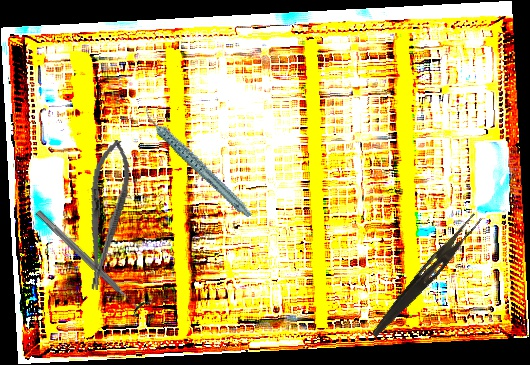Dressing Forceps: (369, 208, 483, 344)
Fixation Ring: (29, 203, 152, 320)
Handpiece: (141, 89, 254, 235)
Needle Holder: (74, 137, 137, 293)
